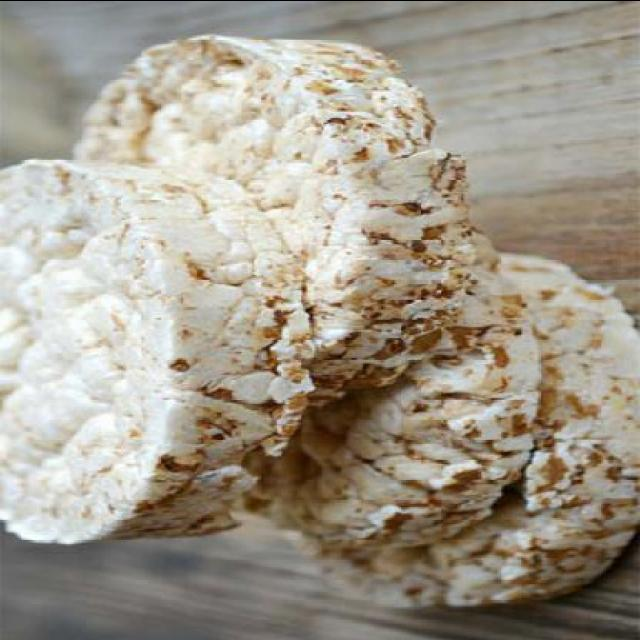Gallette di riso packaged: (1, 38, 633, 610)
